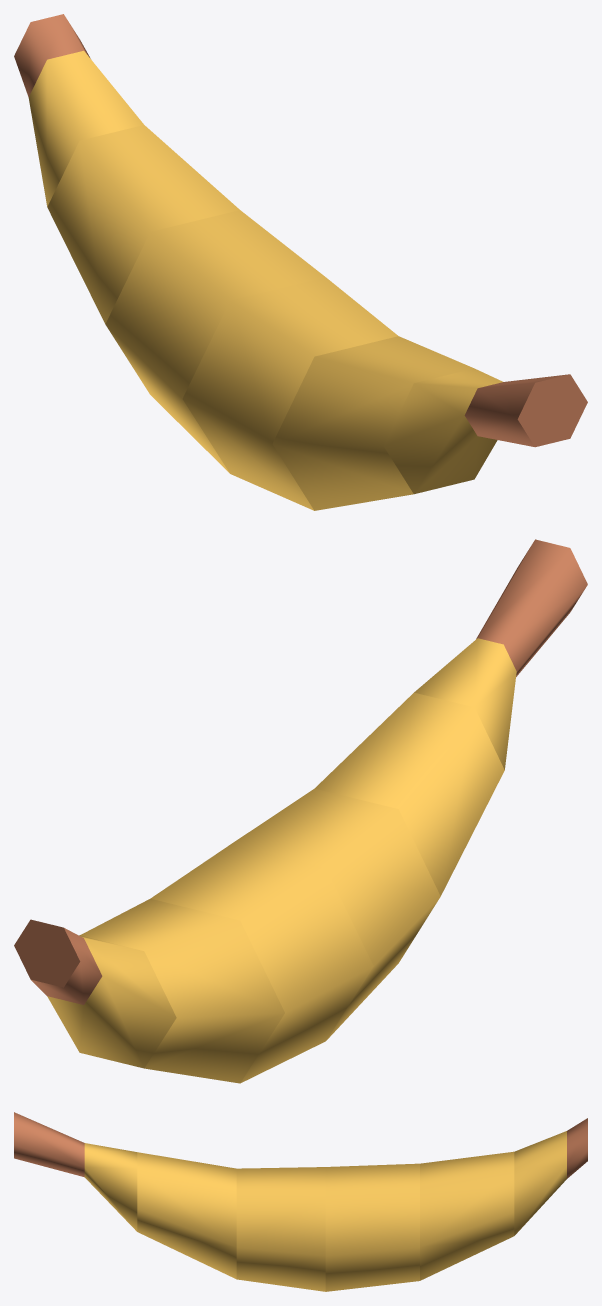
The model's file is Banana.glb.
The picture shows the model from 3 angles, top to bottom: view 1: azimuth 30°, elevation 25°; view 2: azimuth 150°, elevation 25°; view 3: azimuth 270°, elevation 25°; orthographic projection. The views are drawn at different scales.
Parts seen in each view (by area): view 1: banana; view 2: banana; view 3: banana.
Part boxes in pixels (x1,y1,x2,y2): banana: (14, 14, 587, 510); banana: (14, 539, 587, 1083); banana: (14, 1112, 587, 1291).
Size of the model in its own units: 0.1376 by 0.1958 by 0.6299.
